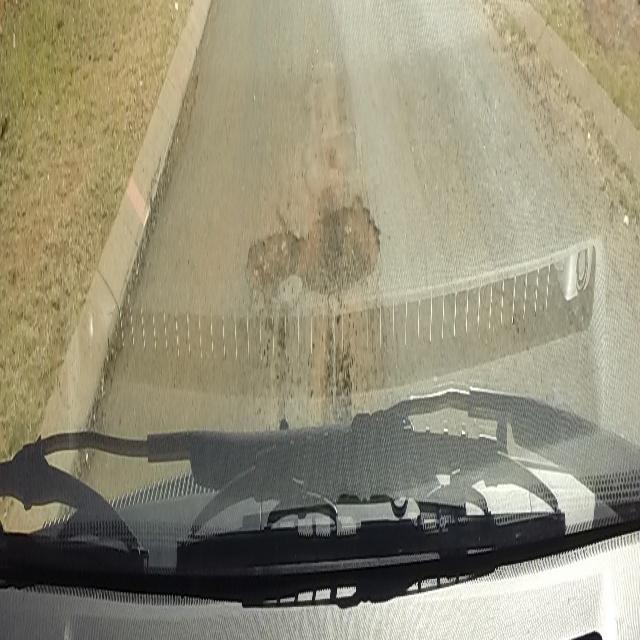pothole: (246, 194, 382, 298)
